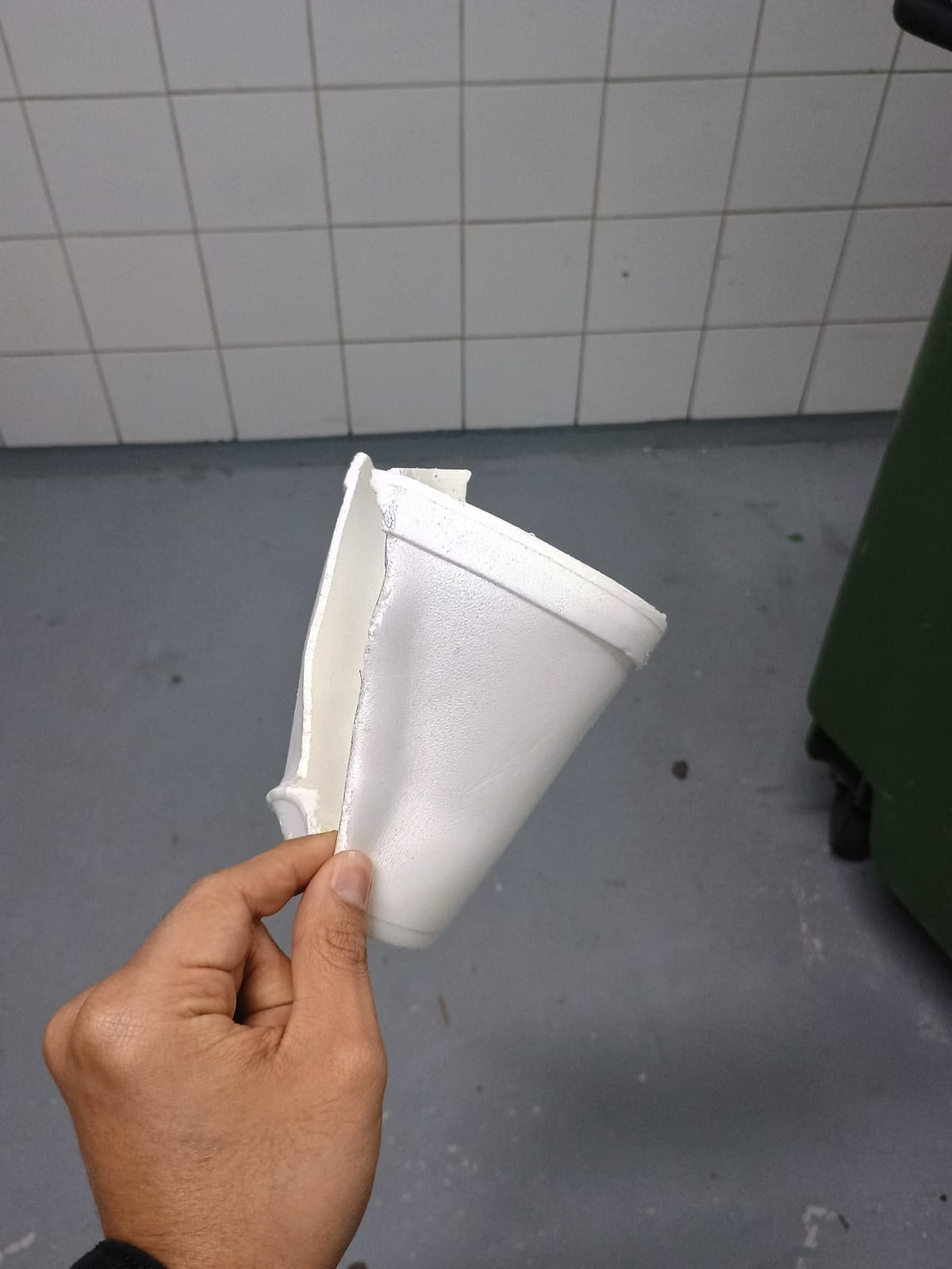Ordinario: (269, 451, 676, 956)
